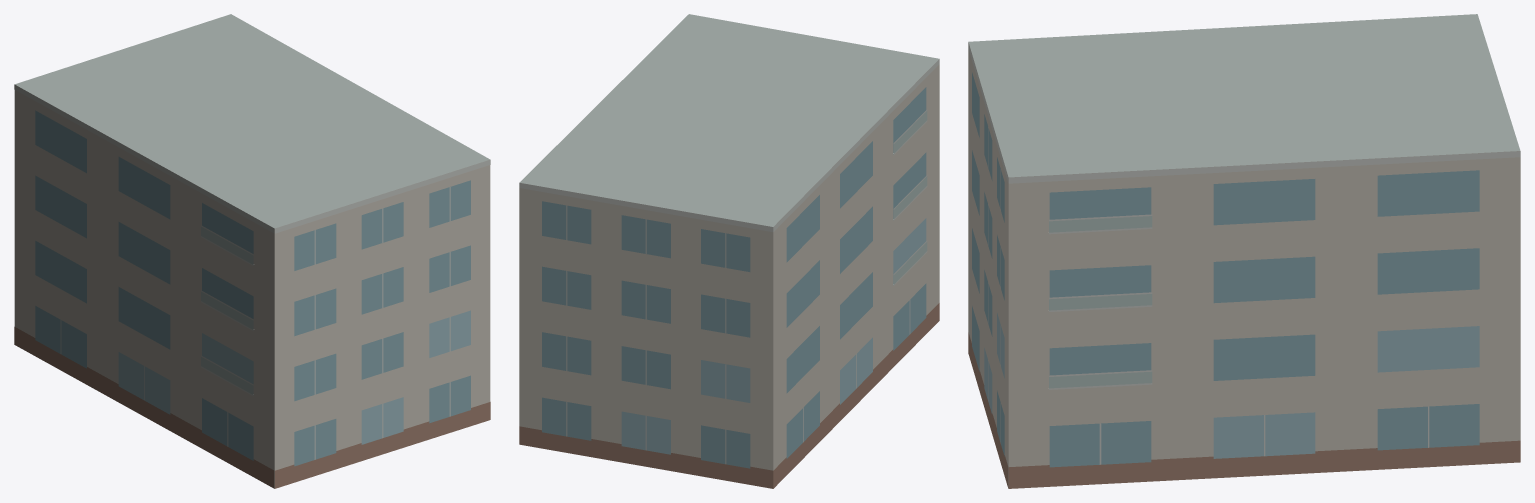
File: survey-upis-33025864.glb
3 renders of one model, left to right at view 1: azimuth 30°, elevation 25°; view 2: azimuth 150°, elevation 25°; view 3: azimuth 270°, elevation 25°, orthographic. The views are drawn at different scales.
Visible parts, largest first — view 1: survey-upis-33025864.tmp; view 2: survey-upis-33025864.tmp; view 3: survey-upis-33025864.tmp.
Boxes of the visible parts, left/top/right/bottom form: survey-upis-33025864.tmp: left=14, top=14, right=490, bottom=488; survey-upis-33025864.tmp: left=519, top=14, right=939, bottom=488; survey-upis-33025864.tmp: left=968, top=14, right=1520, bottom=488.
Bounding box in the file's own units: 13.63 × 12.1 × 19.45.
